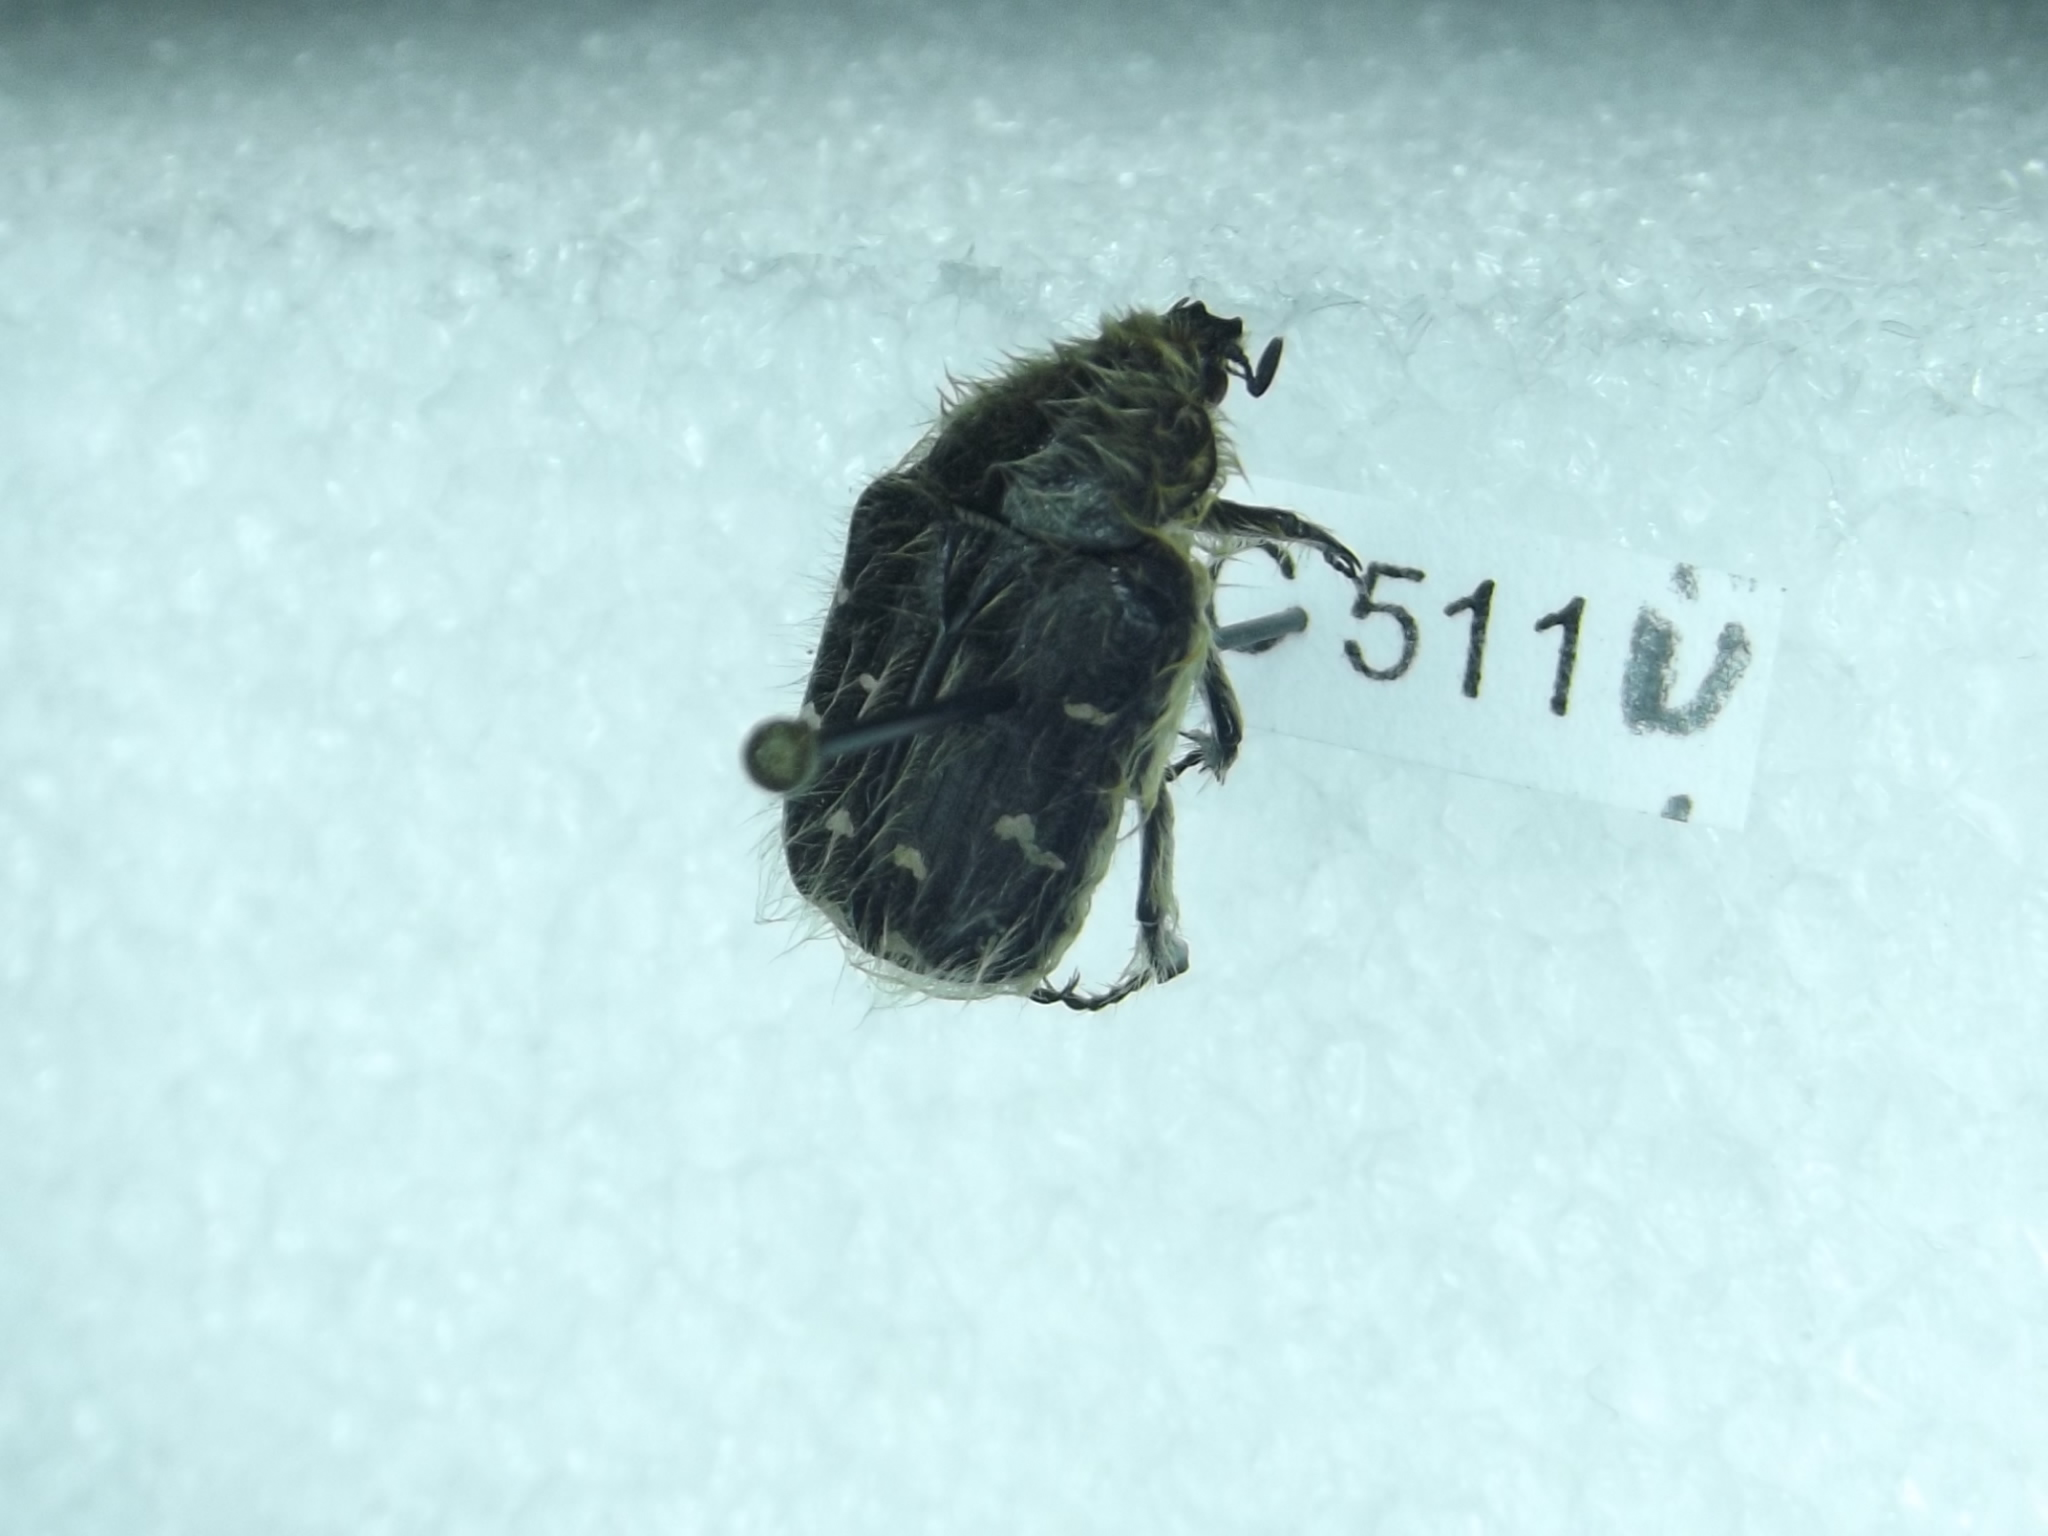Tropinota_senicula: (769, 263, 1348, 1055)
